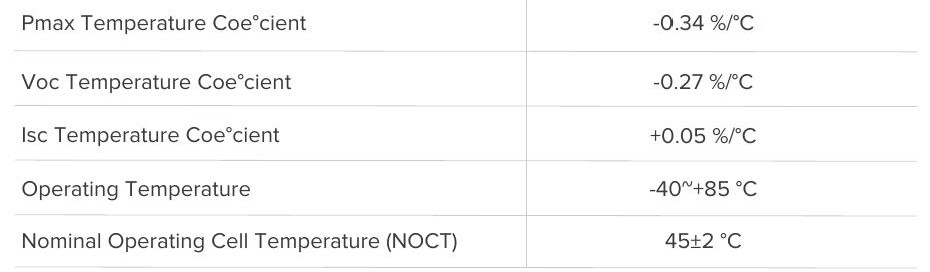table: (2, 1, 930, 272)
table column: (15, 3, 519, 268), (532, 2, 924, 271)
table row: (7, 56, 925, 107), (7, 219, 929, 267), (7, 165, 928, 213), (6, 113, 928, 158), (7, 6, 925, 48)
